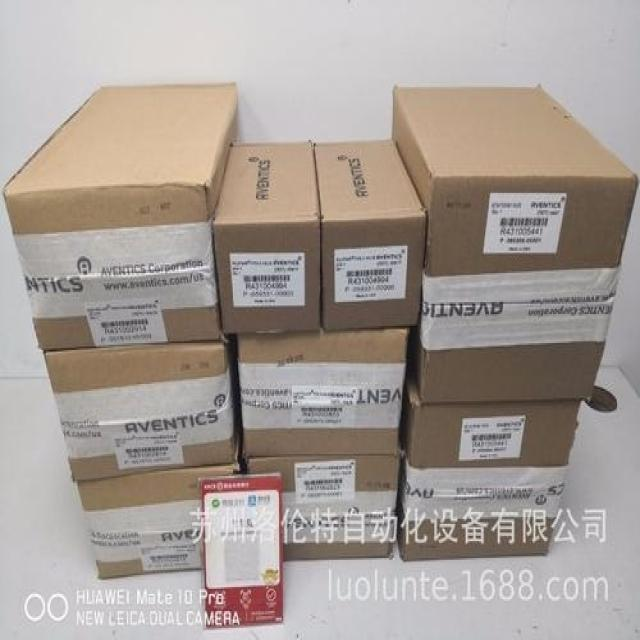box: (2, 83, 243, 353), (394, 87, 637, 278), (41, 337, 240, 480), (415, 270, 619, 403), (77, 443, 245, 578), (236, 330, 406, 459), (313, 139, 428, 327), (212, 143, 320, 334), (401, 363, 582, 467), (397, 453, 568, 561), (247, 455, 401, 561)
